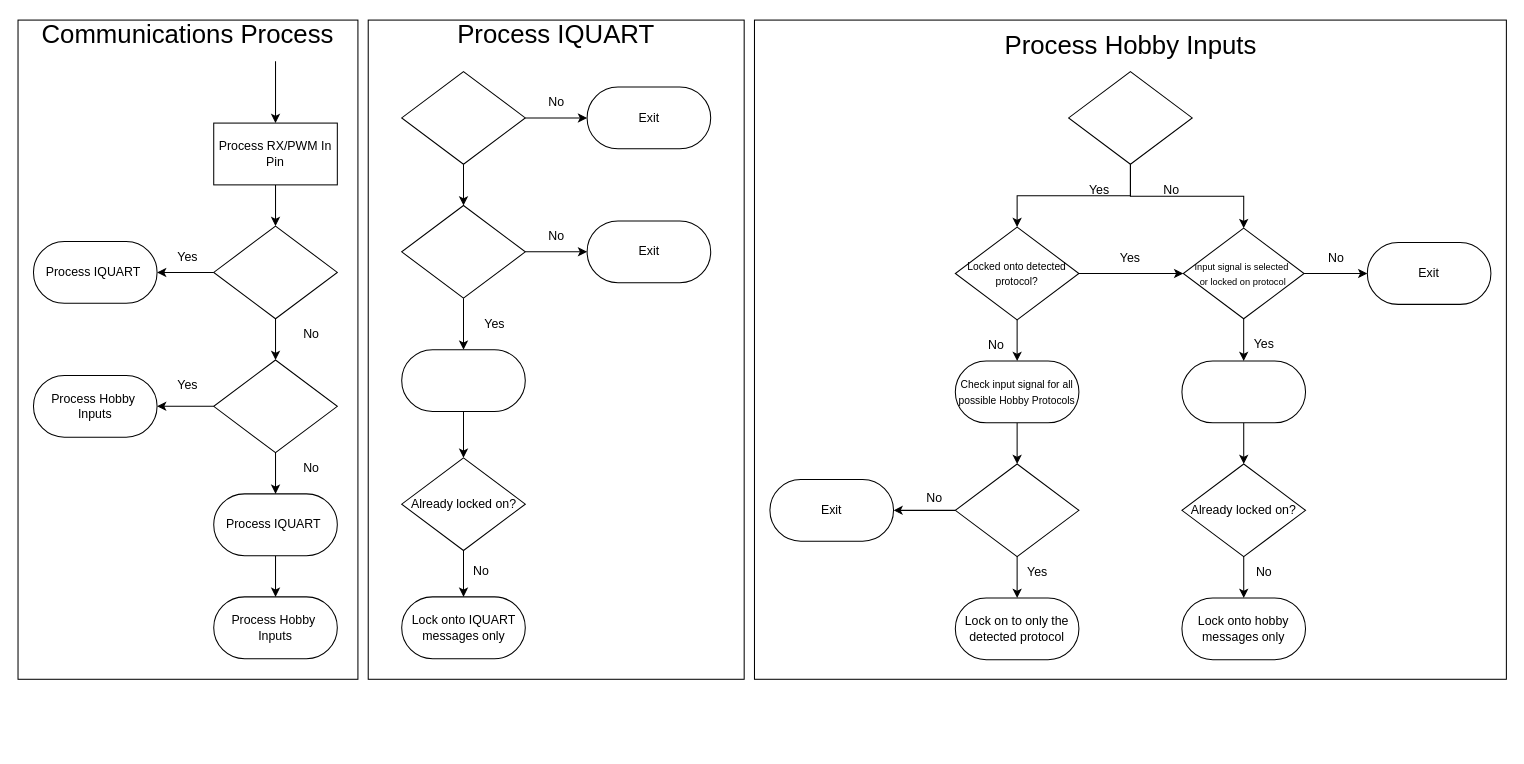
Image size: 1524x764. Some labels were removed from this diagram. The shapes that lost their labels are listed below. From the top down, each one's centre as x and y in pixels, then its label:
At [463,117]: "Serial data available?".
At [1130,117]: "Autodetect on?".
At [463,251]: "Serial data contains IQUART message?".
At [275,272]: "Locked onto IQUART?".
At [463,380]: "Process IQUART message".
At [1243,391]: "Parse and apply received command".
At [275,406]: "Locked onto Hobby?".
At [1016,510]: "Protocol Detected?".
